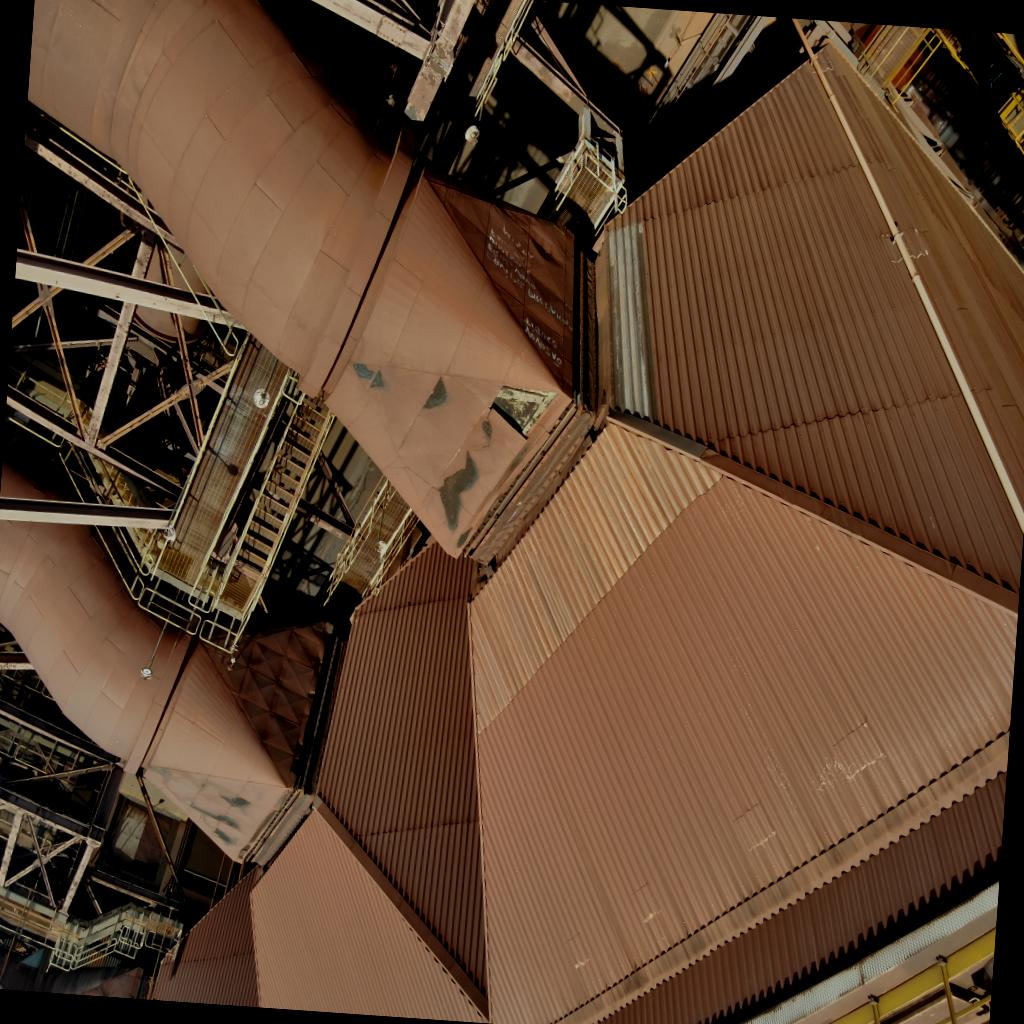Failures: (486, 379, 560, 448)
